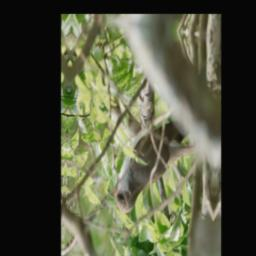Cuckoo: (107, 108, 200, 226)
